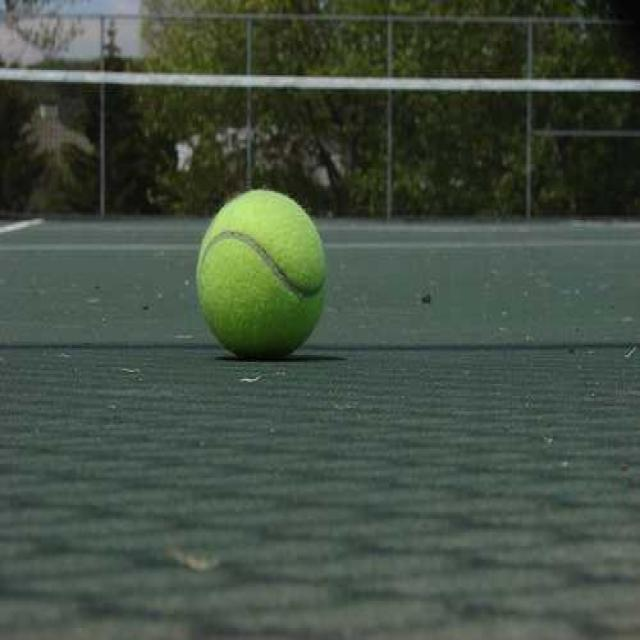Tennis_Ball: (199, 191, 329, 357)
